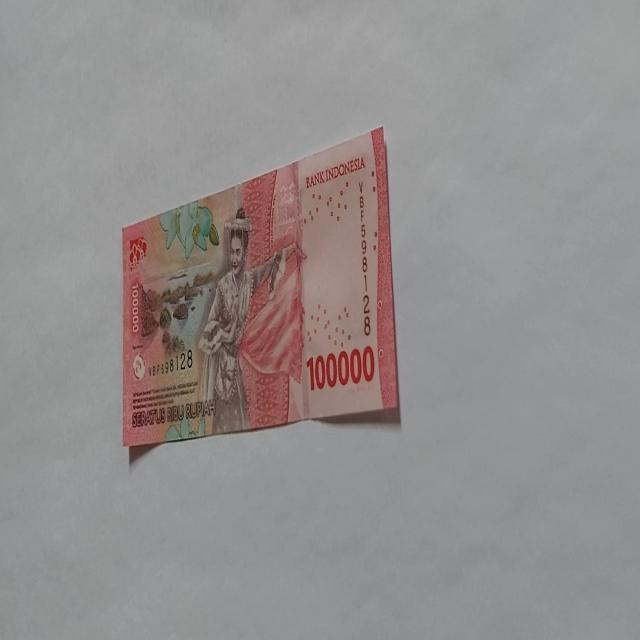seratus ribu rupiah: (120, 127, 402, 468), (196, 206, 288, 434)
